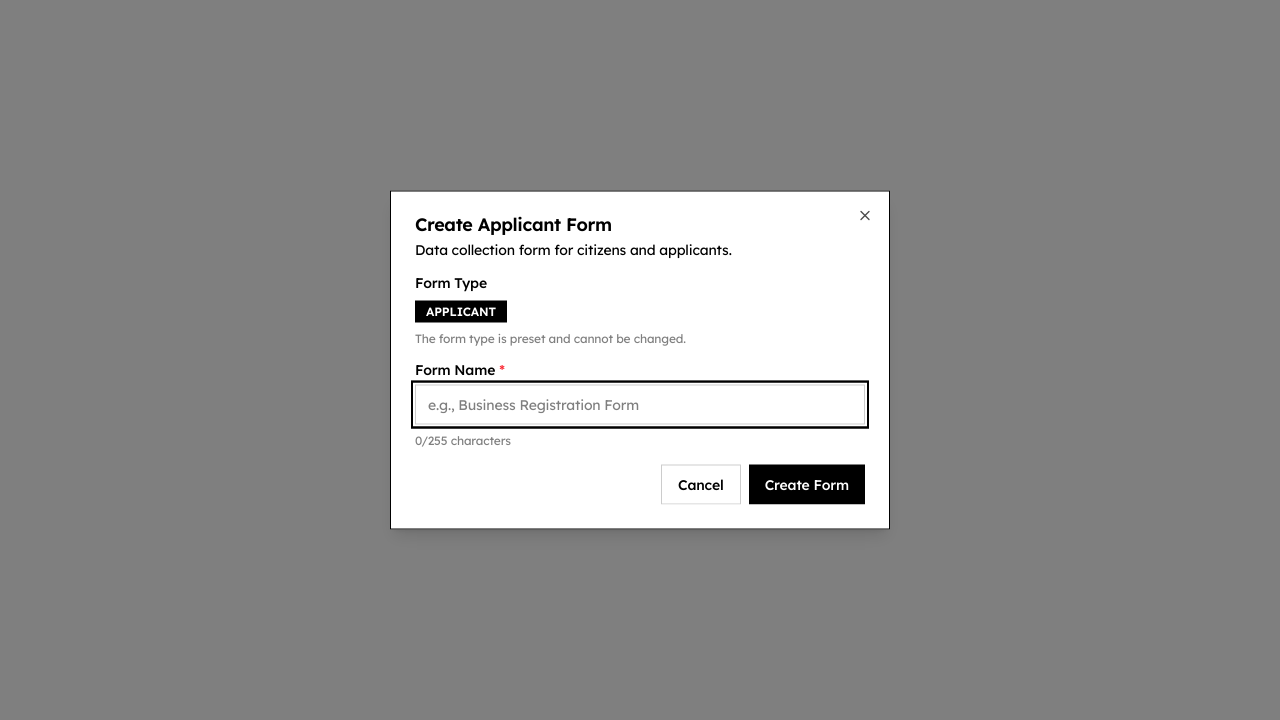
it: CreateFormDialog › Character Counter › updates character count as user types
This screenshot has width=1280, height=720.
In the field labelled "Form Name *": [640, 404] box [415,384,865,424], type "My Test Form"
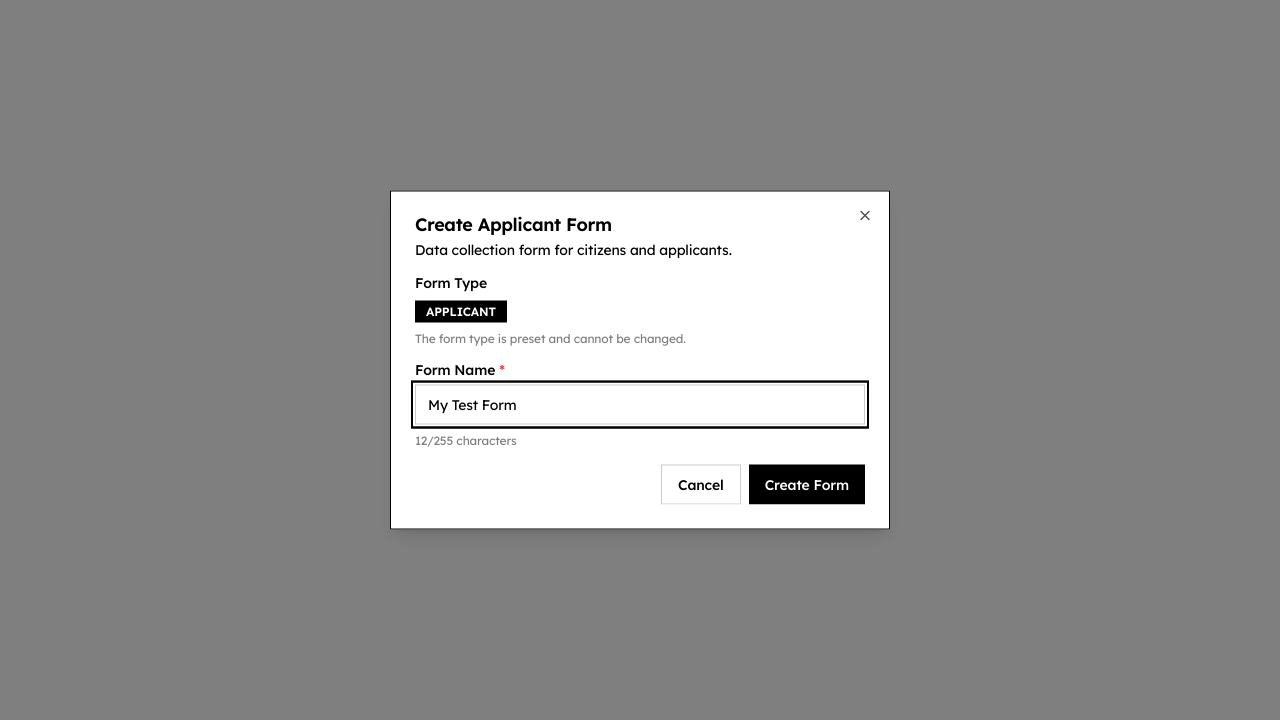
expect the text "12/255 characters" is shown: met, box [415,432,517,448]
